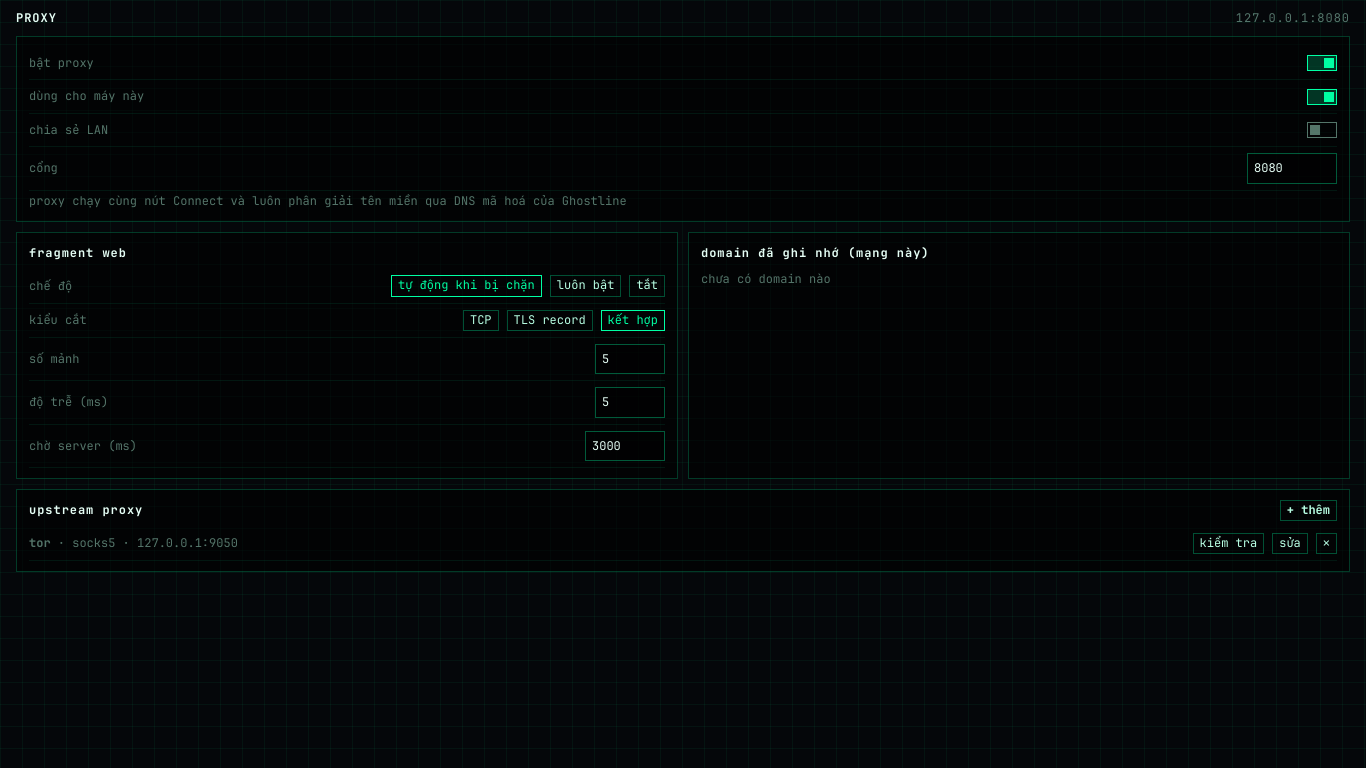
Test case: an invalid port is rejected before saving
Replace the text in the number field named "cổng" with "53" at (1292, 168), box top-left (1247, 153), bottom-right (1337, 184)
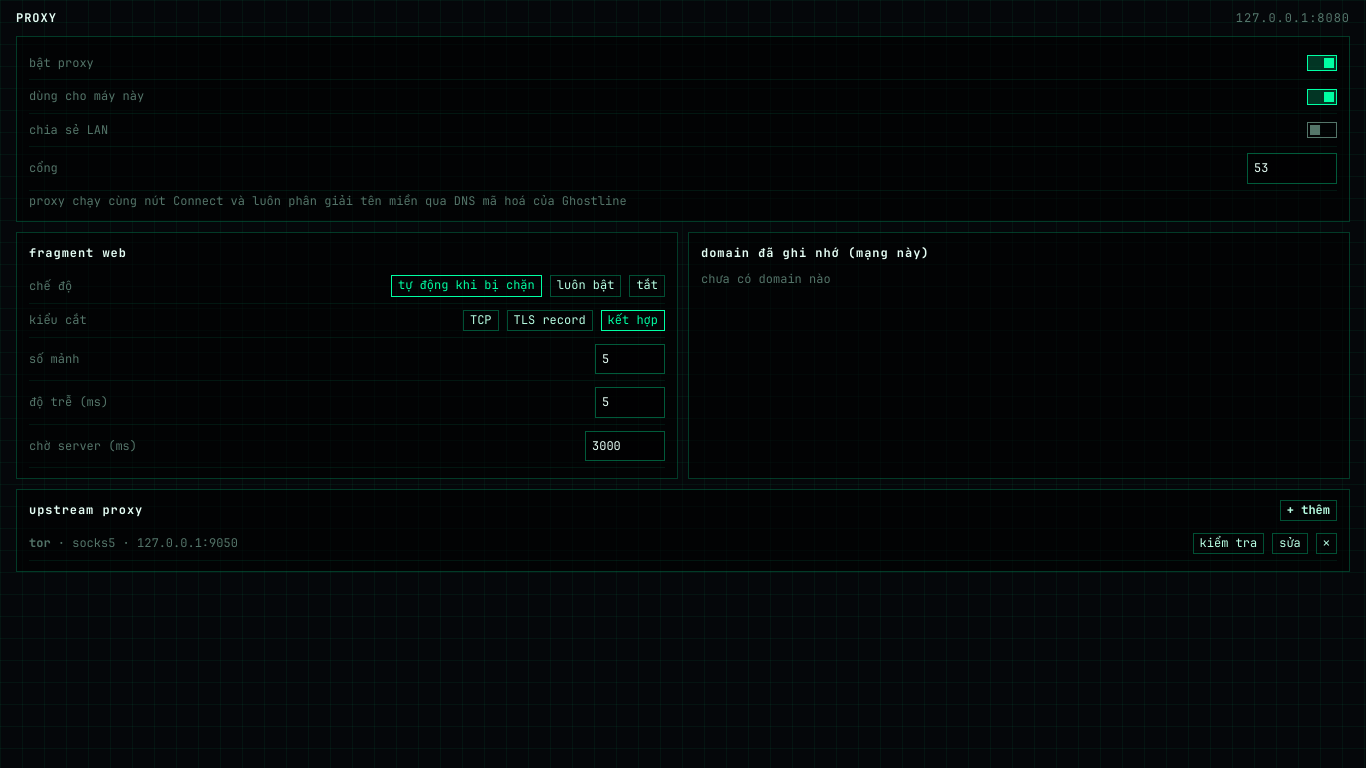
Leave the number field named "cổng", box top-left (1247, 153), bottom-right (1337, 184)
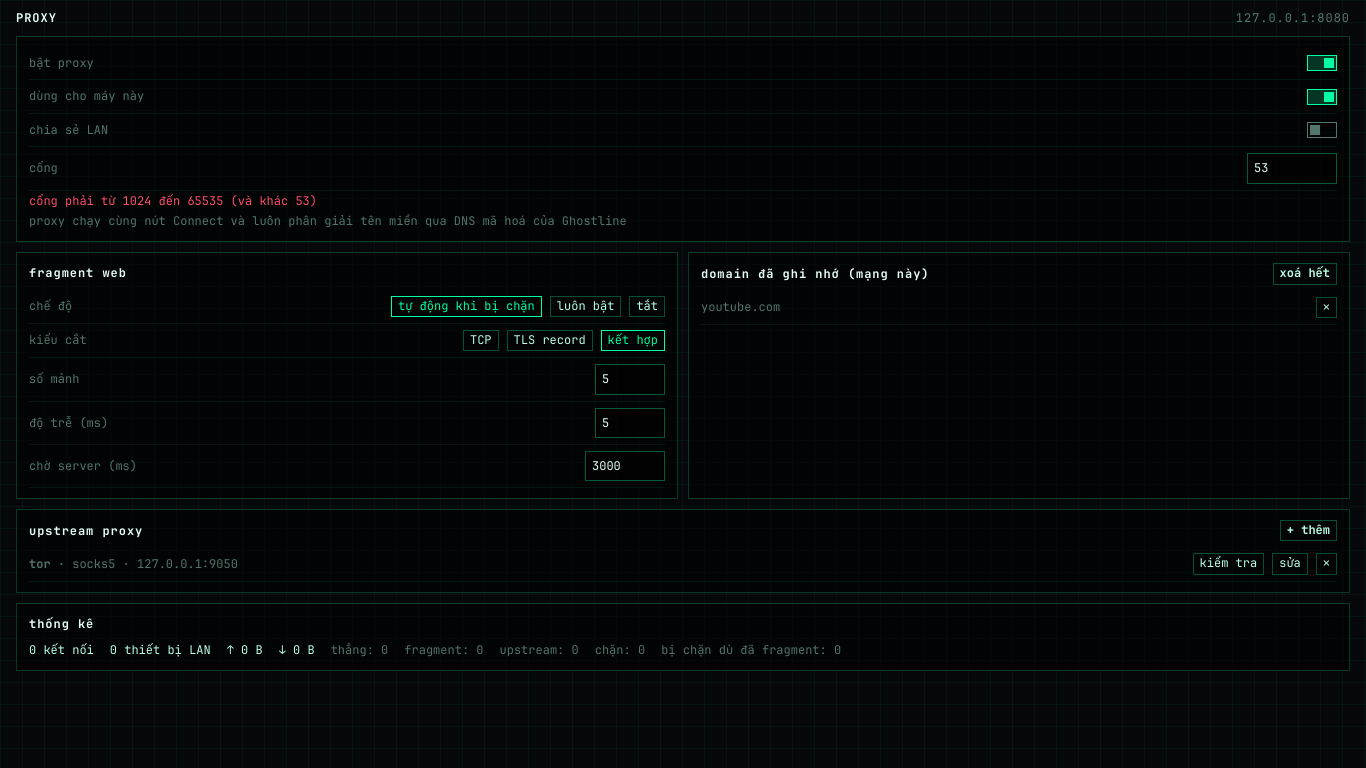
Check: the text "cổng phải từ 1024 đến 65535 (và khác 53)" is shown, box top-left (29, 193), bottom-right (317, 209)
